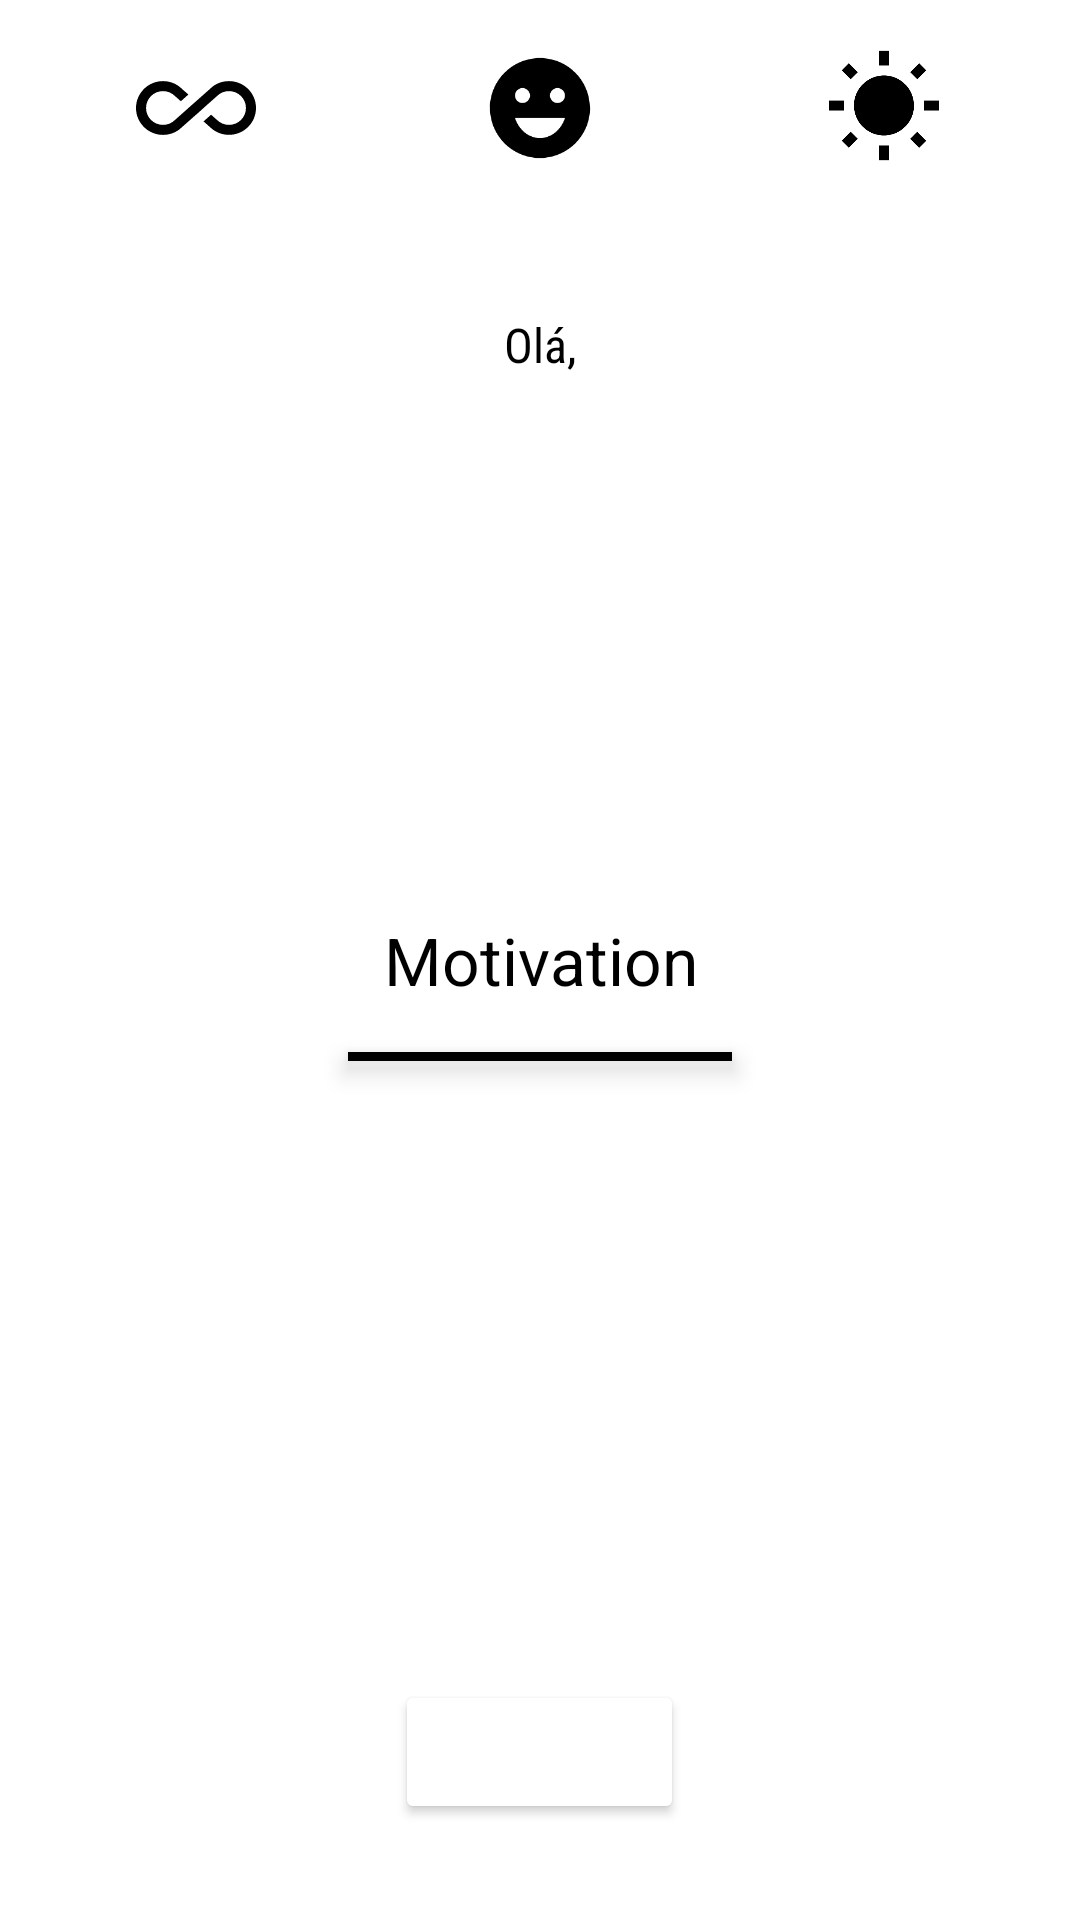

Icon click points for this 1080x1920 phone screenshot, format point (x, y):
all inclusive: point (196, 108)
happy: point (540, 108)
sunny: point (884, 105)
